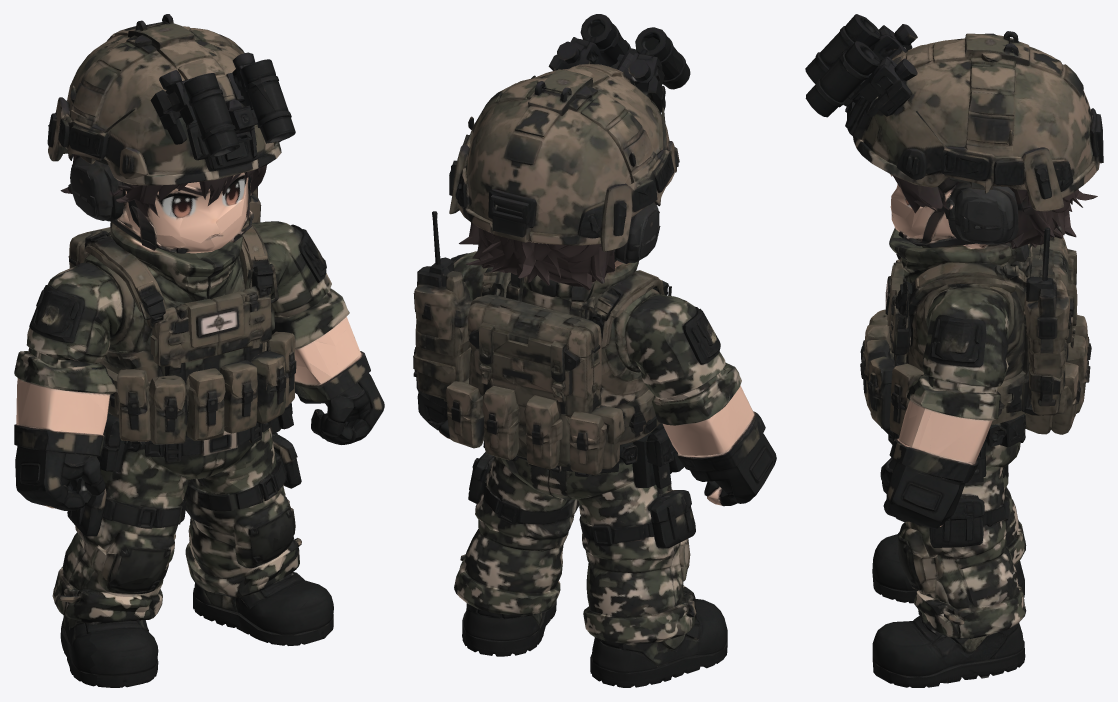
File: ladtaven.glb
3 views of the same model, side by side, from view 1: azimuth 30°, elevation 25°; view 2: azimuth 150°, elevation 25°; view 3: azimuth 270°, elevation 25° (orthographic). The views are drawn at different scales.
Parts seen in each view (by area): view 1: output_unwrapped; view 2: output_unwrapped; view 3: output_unwrapped.
Part boxes in pixels (bbox=[...]): output_unwrapped: bbox=[14, 14, 384, 687]; output_unwrapped: bbox=[413, 14, 776, 687]; output_unwrapped: bbox=[805, 14, 1103, 687].
Bounding box in the file's own units: 1.14 × 1.9 × 0.8583.
Materials: 1 (1 with a texture image).
